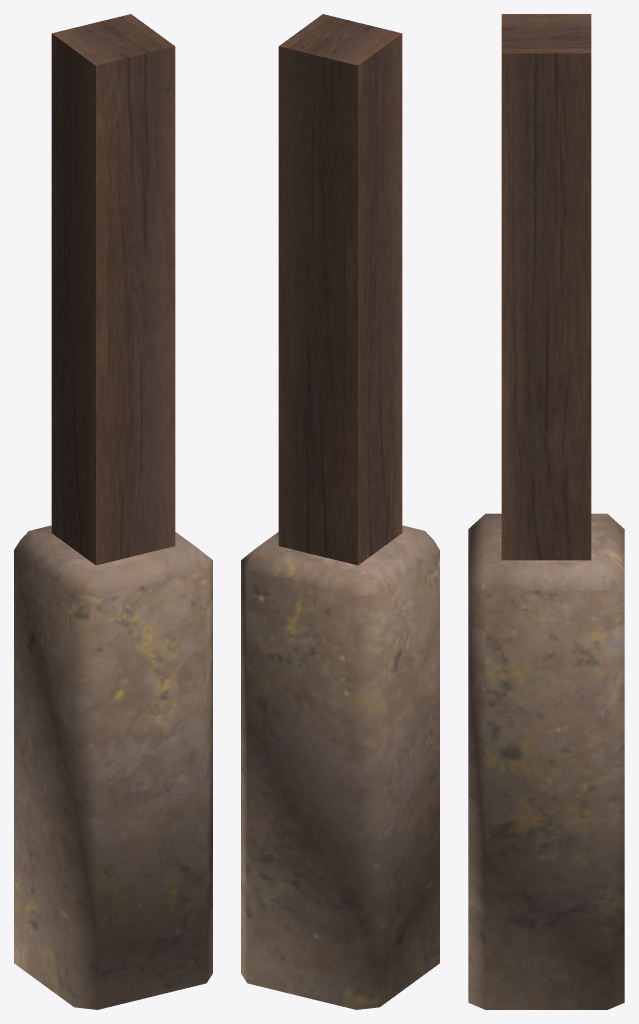
The model's file is pile04.fbx.
The picture shows the model from 3 angles, left to right: view 1: azimuth 30°, elevation 25°; view 2: azimuth 150°, elevation 25°; view 3: azimuth 270°, elevation 25°; orthographic projection.
Visible parts, largest first — view 1: pile04; view 2: pile04; view 3: pile04.
Boxes of the visible parts, box(x1,y1,x2,y2) form: pile04: box(14, 14, 212, 1009); pile04: box(241, 14, 439, 1009); pile04: box(468, 14, 624, 1009).
Bounding box in the file's own units: 18.86 × 121 × 18.18.
